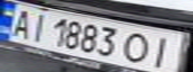1: (45, 16, 69, 47)
3: (96, 24, 124, 60)
8: (78, 21, 103, 55), (60, 18, 84, 52)
A: (3, 7, 39, 38)
I: (145, 33, 184, 70), (24, 11, 51, 43)
O: (121, 29, 157, 65)
